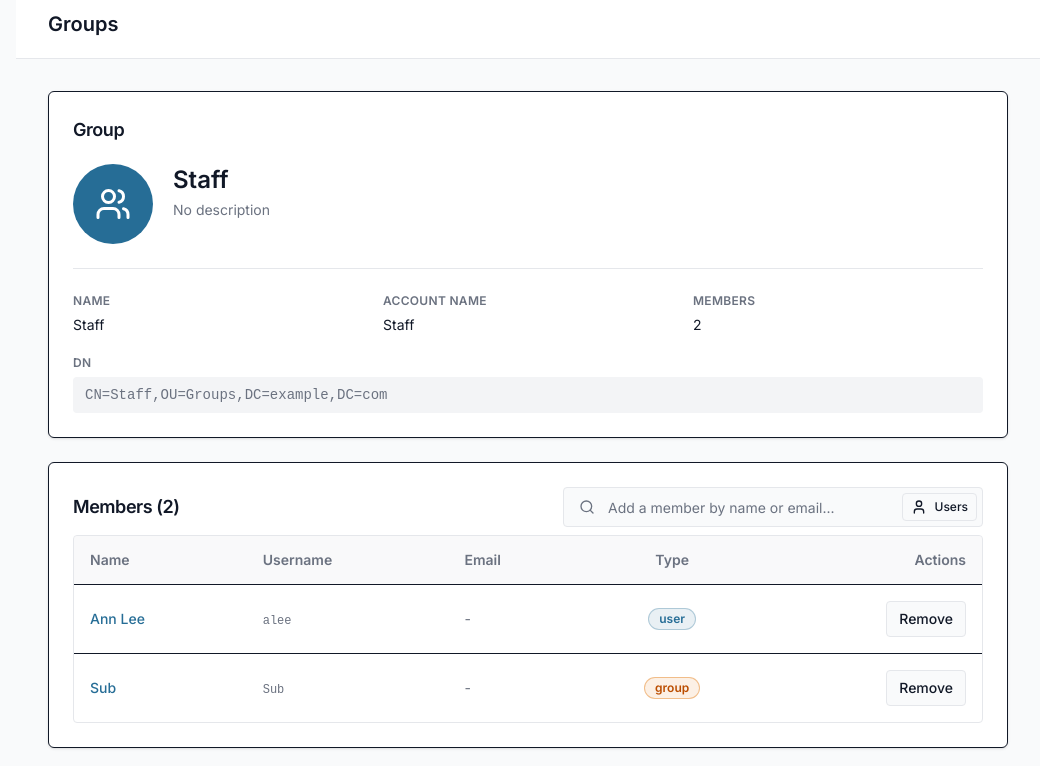
Test: GroupPage member management › requires confirmation before removing, and cancel makes no request
Click the button with aria-label "Remove Ann Lee": (926, 618) left=886, top=600, right=966, bottom=636
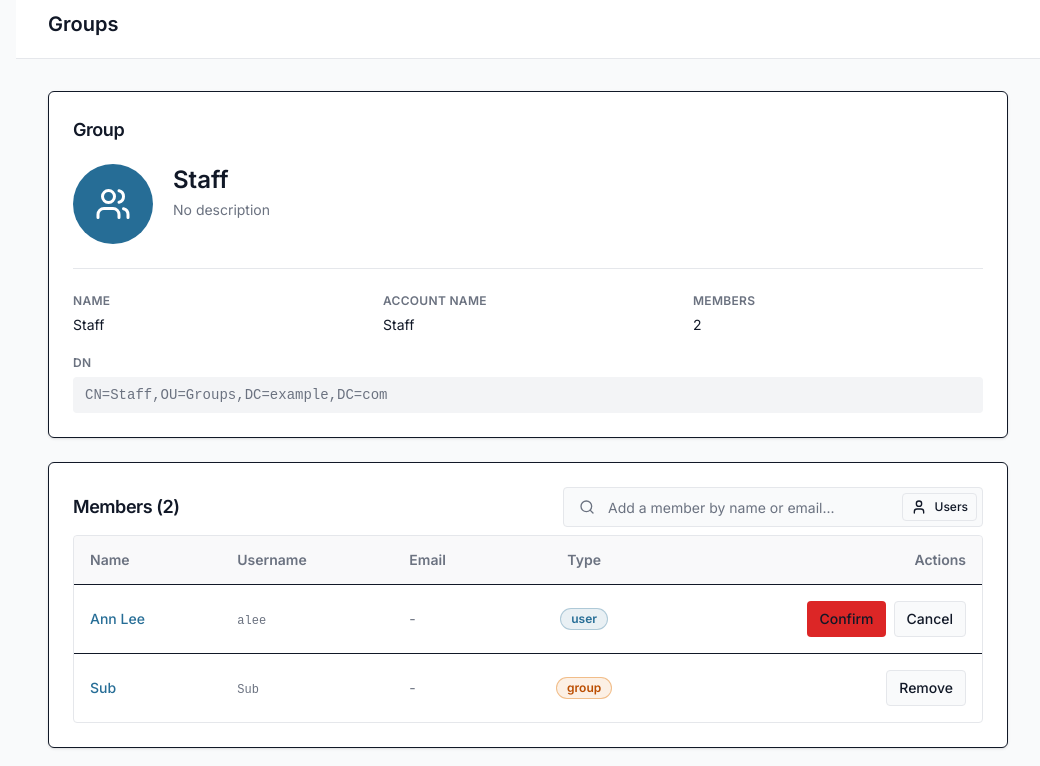
Click the button "Cancel": (930, 618) left=894, top=600, right=966, bottom=636
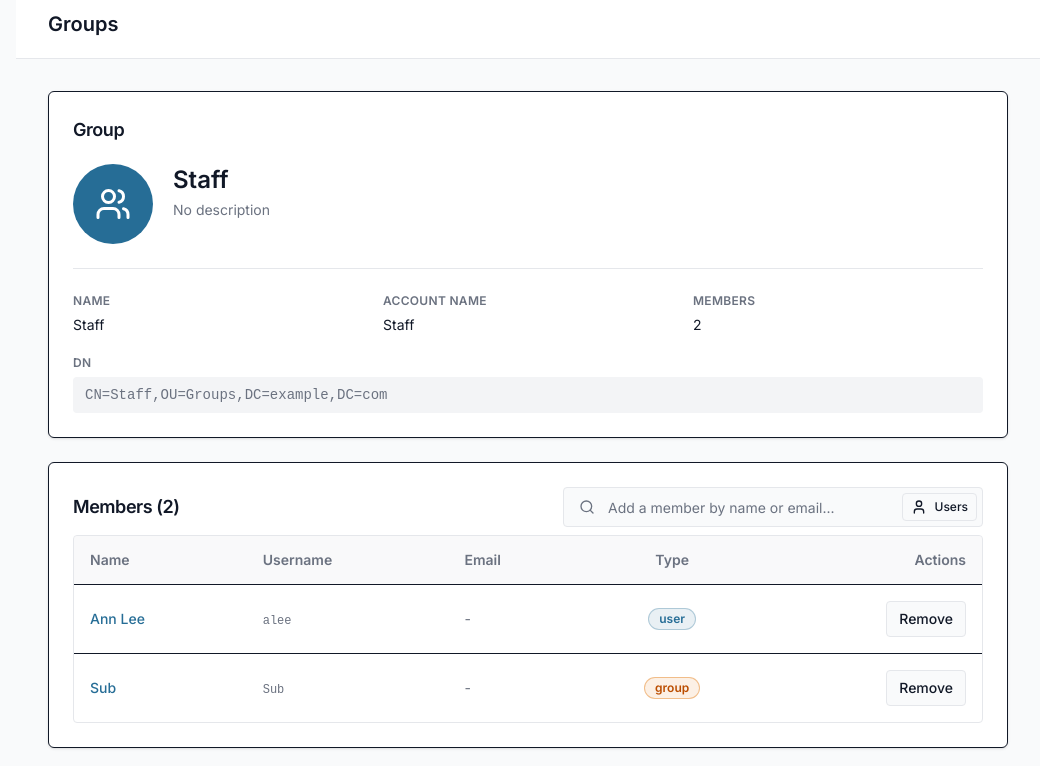
Now the button with aria-label "Remove Ann Lee" is shown, box left=886, top=600, right=966, bottom=636
